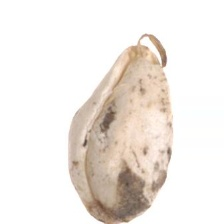L1: (124, 31, 164, 70), (86, 200, 152, 223)
L2: (66, 33, 175, 223)
